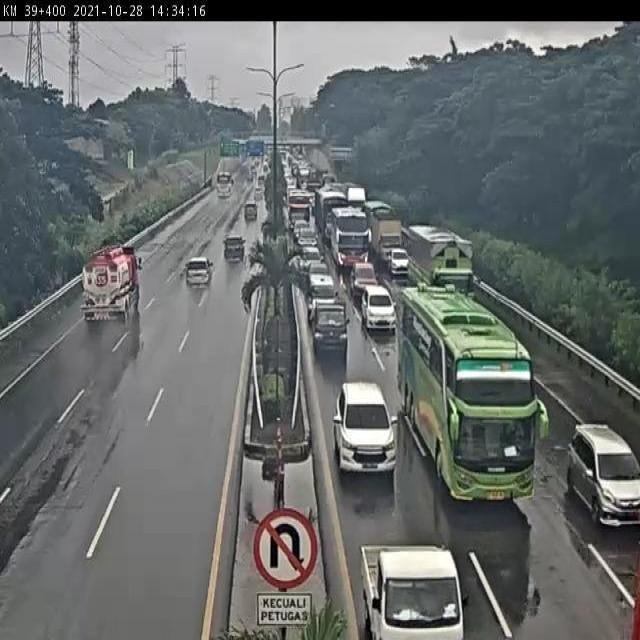bus-l-: (399, 284, 536, 504), (330, 205, 370, 263)
car: (359, 544, 465, 640), (332, 380, 398, 475), (307, 296, 347, 349), (355, 278, 393, 322), (306, 270, 339, 306), (348, 258, 378, 286), (299, 241, 324, 272), (223, 235, 246, 264)
